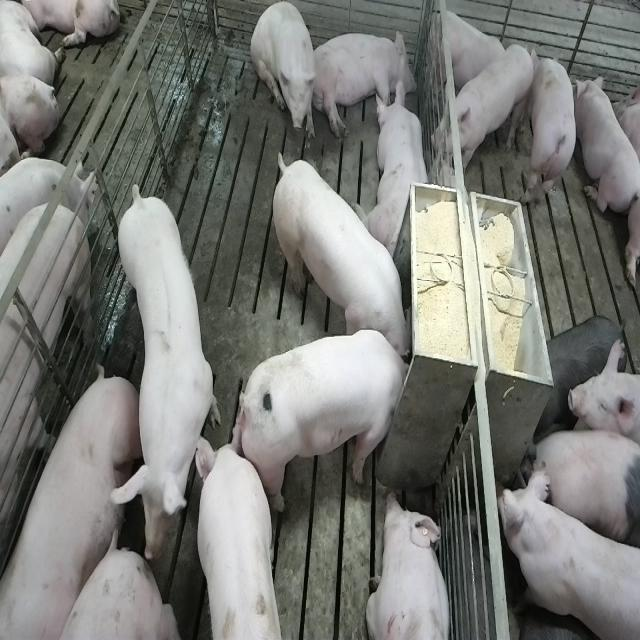Feeding: (241, 328, 420, 513), (268, 144, 410, 358)
Lateral_lying: (311, 26, 417, 140)
Sitting: (251, 1, 319, 146)
Standing: (0, 195, 95, 636), (113, 186, 219, 527), (493, 460, 638, 638), (199, 440, 289, 640), (521, 428, 637, 548), (437, 46, 536, 174), (524, 42, 579, 216), (539, 312, 626, 412)
Sternal_lying: (359, 79, 433, 263), (365, 490, 453, 640), (573, 70, 637, 216), (428, 4, 509, 97)
